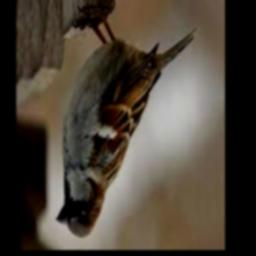Sparrow: (56, 3, 196, 237)
